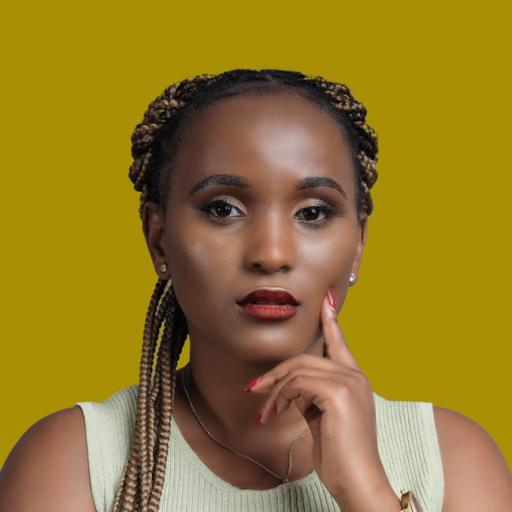lipstick: (239, 289, 299, 320)
